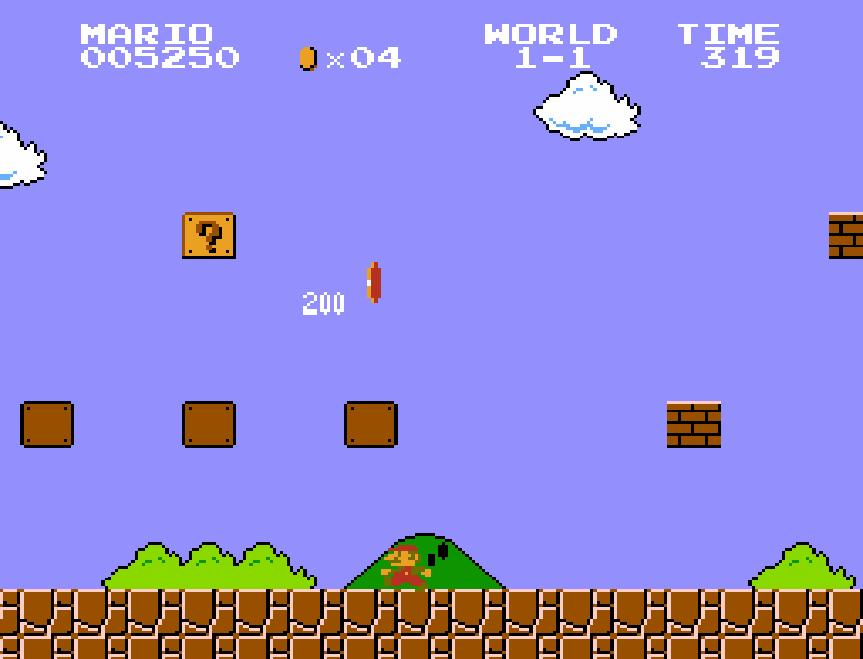little_mario: (376, 544, 434, 594)
